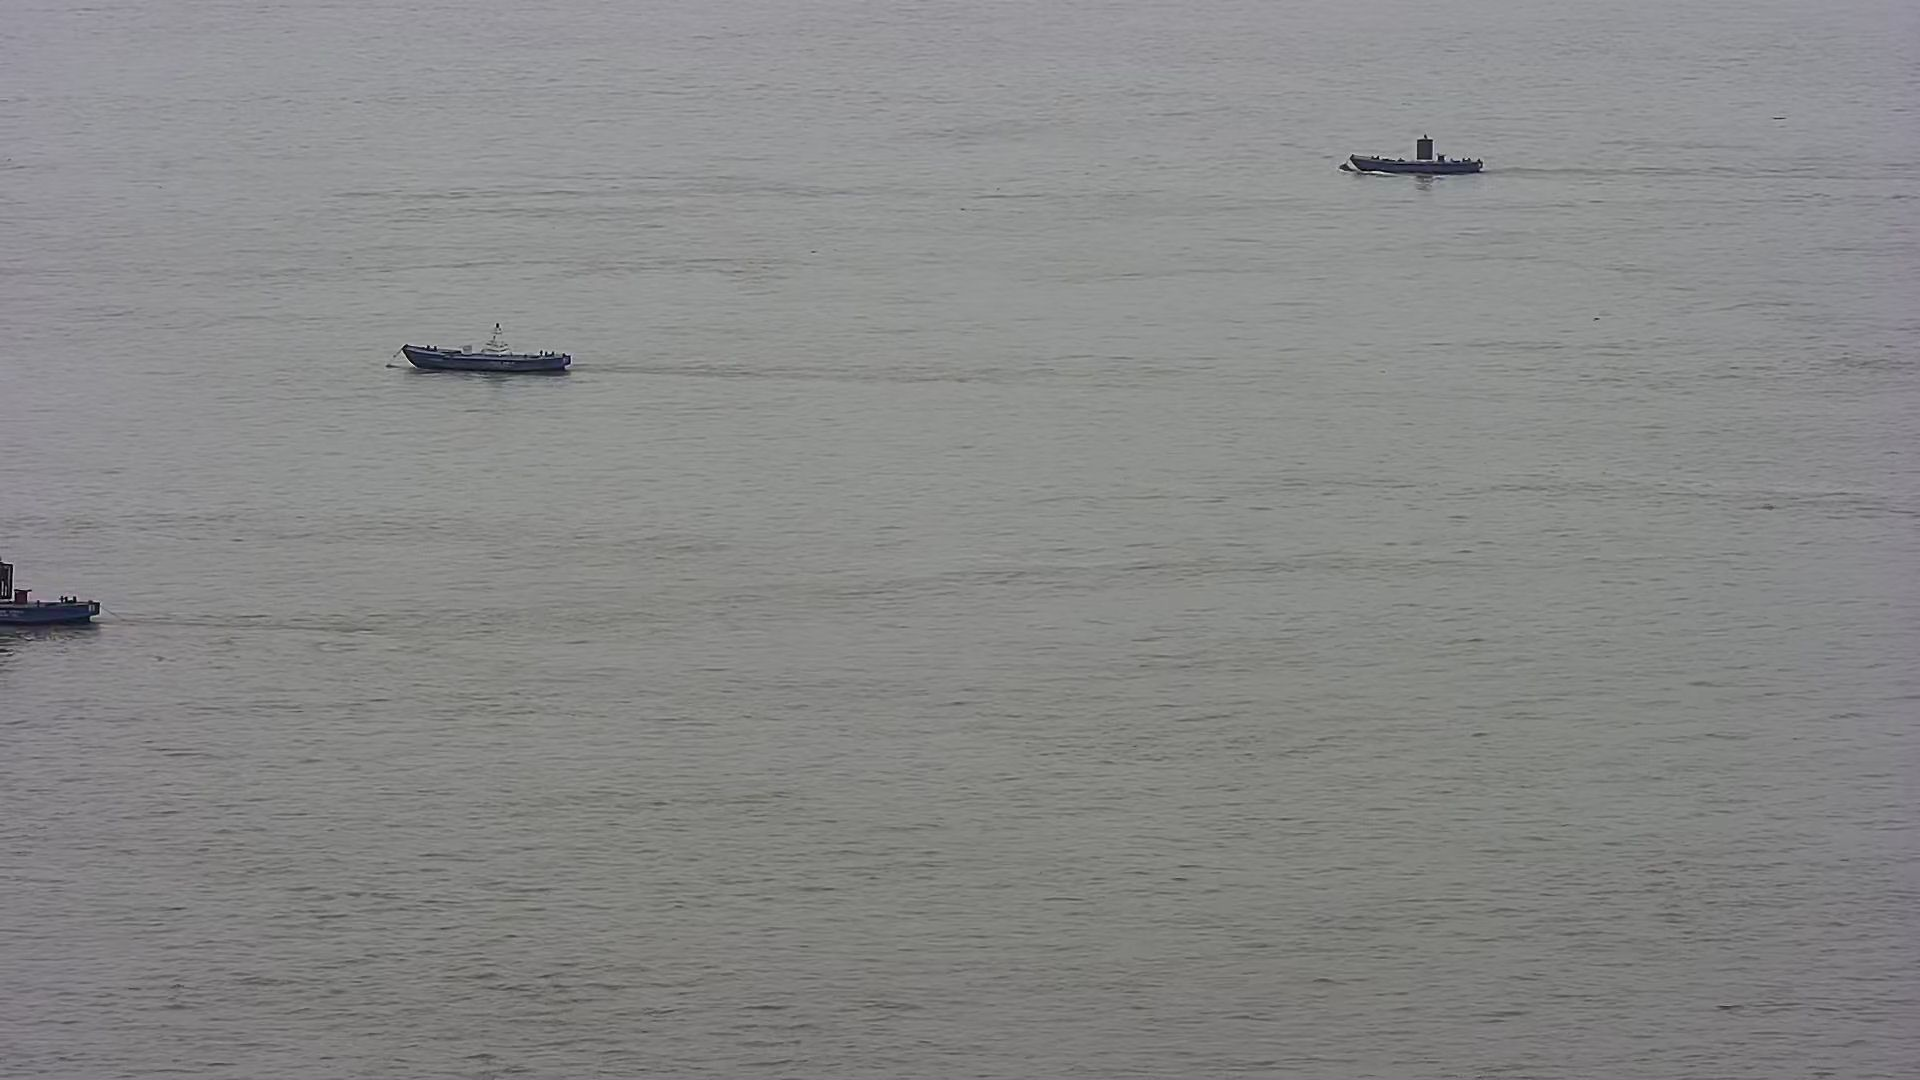boat: (392, 316, 574, 376), (1, 553, 117, 638), (1335, 131, 1490, 173)
